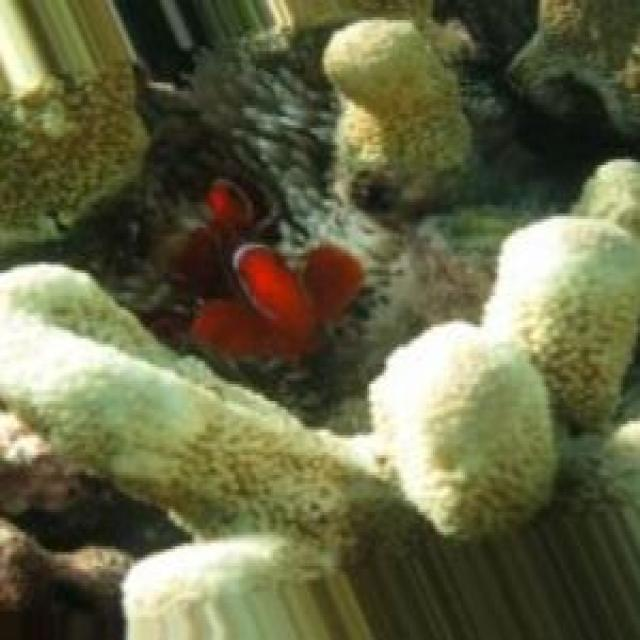Bleached: (1, 266, 408, 553), (370, 322, 558, 536), (483, 220, 639, 428), (323, 21, 470, 217), (1, 64, 148, 231)
